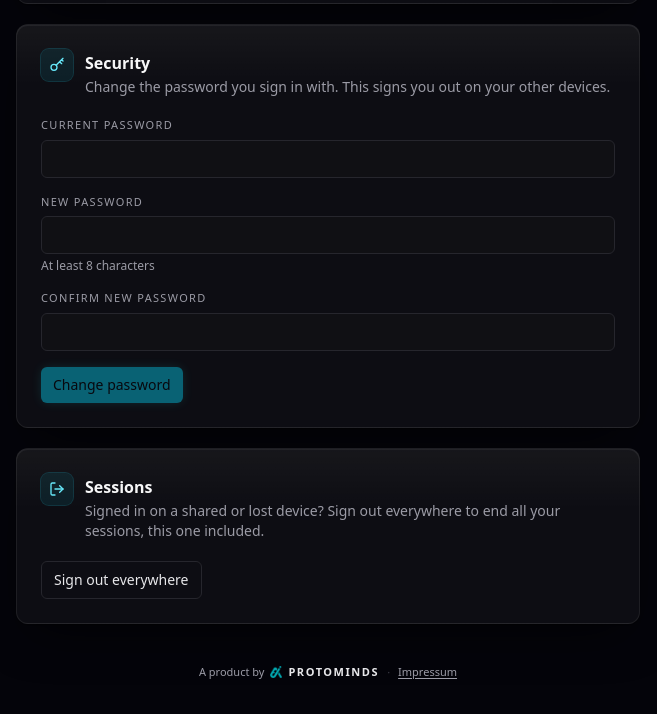
Scenario: Settings: sessions › stays signed in when that fails, and says why
(page scrolled)
Click the button "Sign out everywhere": (121, 580) [41,561,202,599]
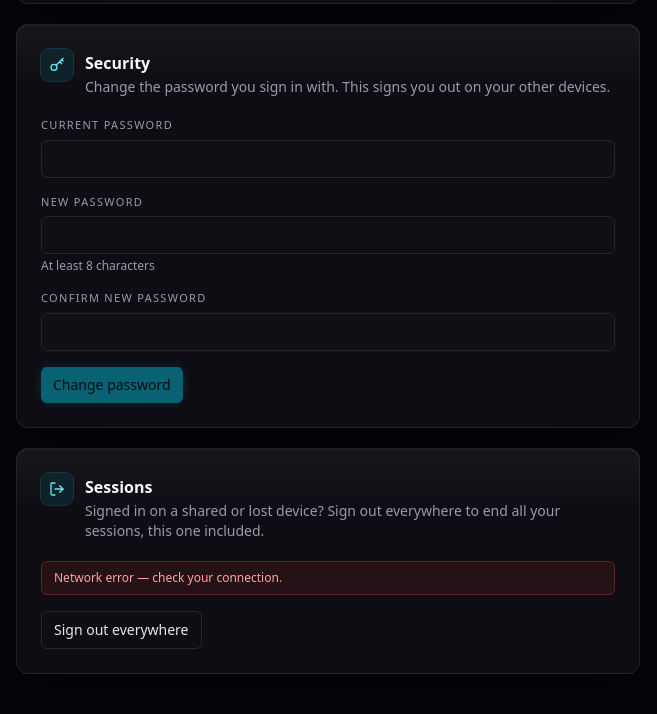
Check: the button "Sign out everywhere" is enabled, box [41,611,202,649]
Check: the message reads "Network error — check your connection.", box [54,569,282,586]
